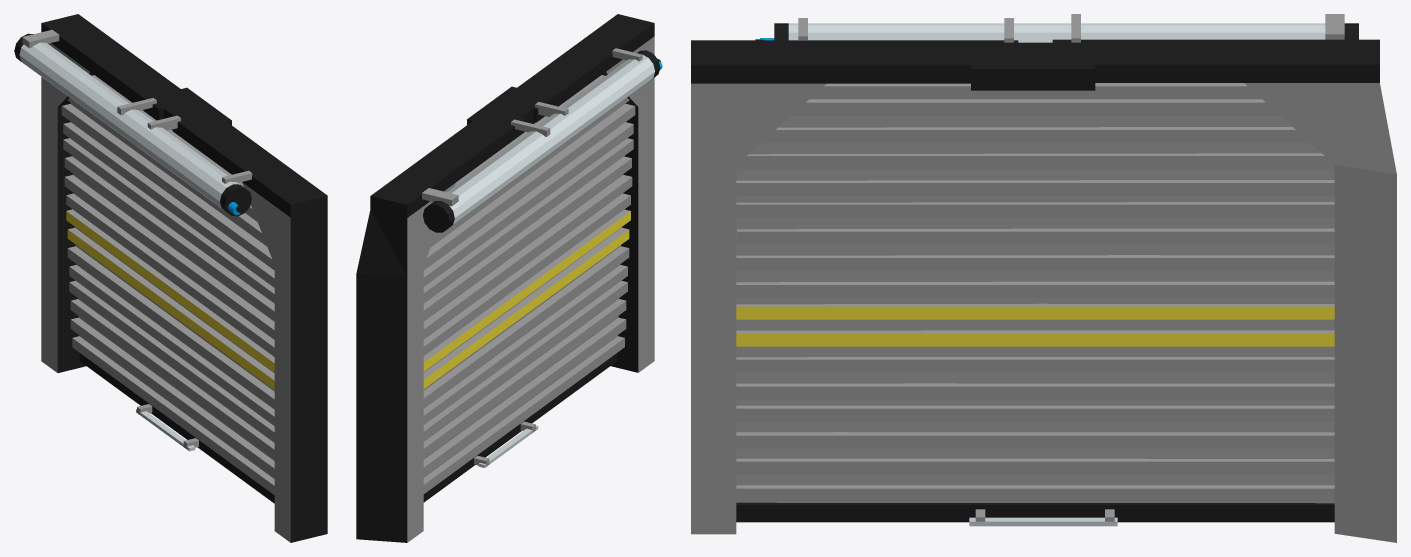
File: ridokapi.fbx
3 renders of one model, left to right at view 1: azimuth 30°, elevation 25°; view 2: azimuth 150°, elevation 25°; view 3: azimuth 270°, elevation 25°, orthographic. The views are drawn at different scales.
Parts seen in each view (by area): view 1: group135980460, group135980460.001; view 2: group135980460, group135980460.001; view 3: group135980460, group135980460.001.
Boxes of the visible parts, x1=… form: group135980460: x1=61, y1=98, x2=274, y2=503; group135980460.001: x1=14, y1=14, x2=327, y2=542; group135980460: x1=423, y1=98, x2=635, y2=502; group135980460.001: x1=356, y1=14, x2=662, y2=542; group135980460: x1=736, y1=99, x2=1334, y2=526; group135980460.001: x1=691, y1=14, x2=1396, y2=542.
Bounding box in the file's own units: 30.46 × 124 × 166.
